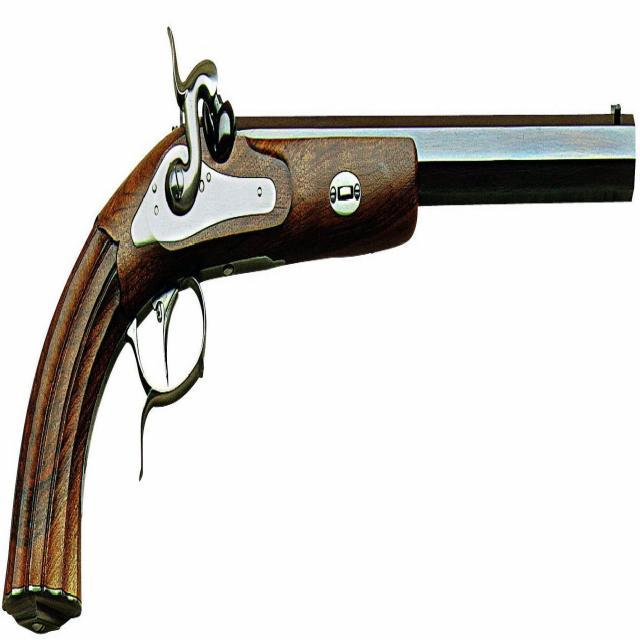gun-knife-thesis - v11 Yolov5 augmented: (8, 32, 636, 640)
